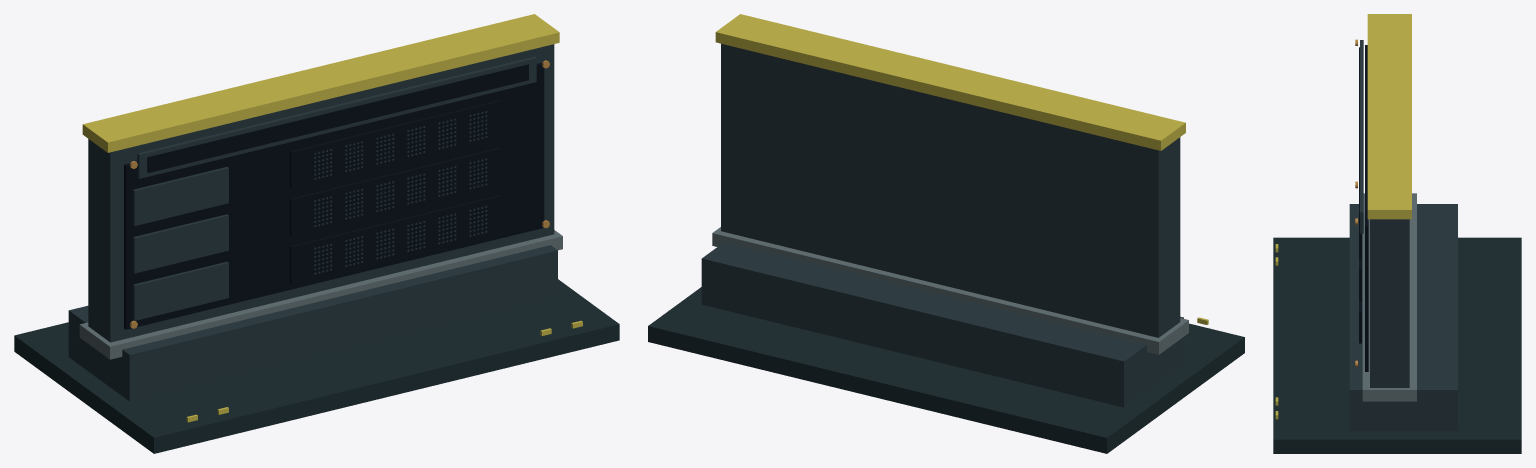
The model's file is flipdot_rivalry_d0_lod0.glb.
3 views of the same model, side by side, from view 1: azimuth 30°, elevation 25°; view 2: azimuth 150°, elevation 25°; view 3: azimuth 270°, elevation 25° (orthographic). The views are drawn at different scales.
Parts seen in each view (by area): view 1: RIVALRY_STRUCTURE; view 2: RIVALRY_STRUCTURE; view 3: RIVALRY_STRUCTURE.
Part boxes in pixels (x1=…): RIVALRY_STRUCTURE: x1=14, y1=14, x2=619, y2=453; RIVALRY_STRUCTURE: x1=648, y1=14, x2=1244, y2=453; RIVALRY_STRUCTURE: x1=1273, y1=14, x2=1521, y2=453.
Size of the model in its own units: 7.5 by 4.17 by 3.9.
